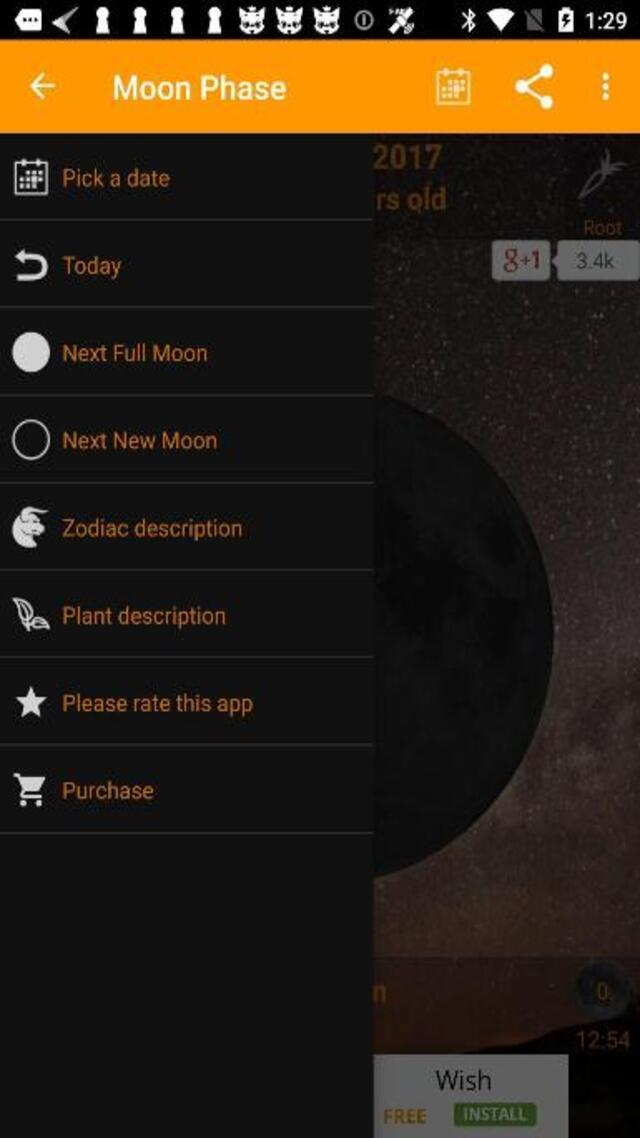Icon: (514, 64, 552, 110), (12, 418, 50, 460), (11, 506, 49, 547), (12, 332, 50, 372), (436, 68, 472, 106), (12, 598, 52, 632), (14, 158, 49, 194), (15, 686, 48, 720), (12, 772, 44, 806), (15, 249, 48, 281), (29, 72, 56, 99), (601, 73, 609, 101)
Text: (113, 73, 286, 101), (63, 692, 253, 716), (61, 518, 242, 542), (63, 605, 226, 630), (63, 429, 216, 449), (62, 342, 207, 362), (64, 168, 170, 188), (63, 779, 153, 800), (62, 255, 120, 278)
